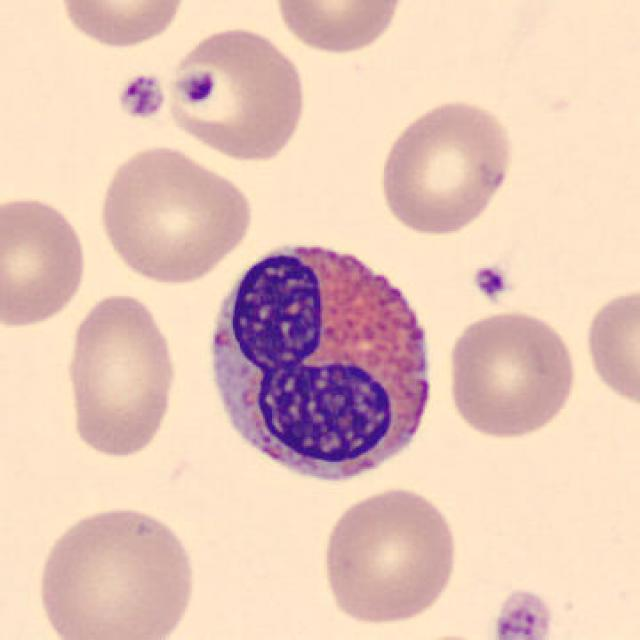Eosinophil: (194, 224, 446, 499)
Platelets: (489, 587, 555, 640), (114, 70, 167, 121), (469, 261, 514, 305), (172, 68, 218, 108)
RBC: (92, 141, 256, 287), (32, 500, 201, 640), (316, 483, 462, 628), (59, 289, 181, 462), (163, 21, 310, 164), (375, 95, 517, 238), (443, 306, 581, 442), (0, 192, 91, 332), (270, 0, 411, 58), (582, 280, 638, 412), (53, 0, 192, 51), (398, 629, 505, 640)
